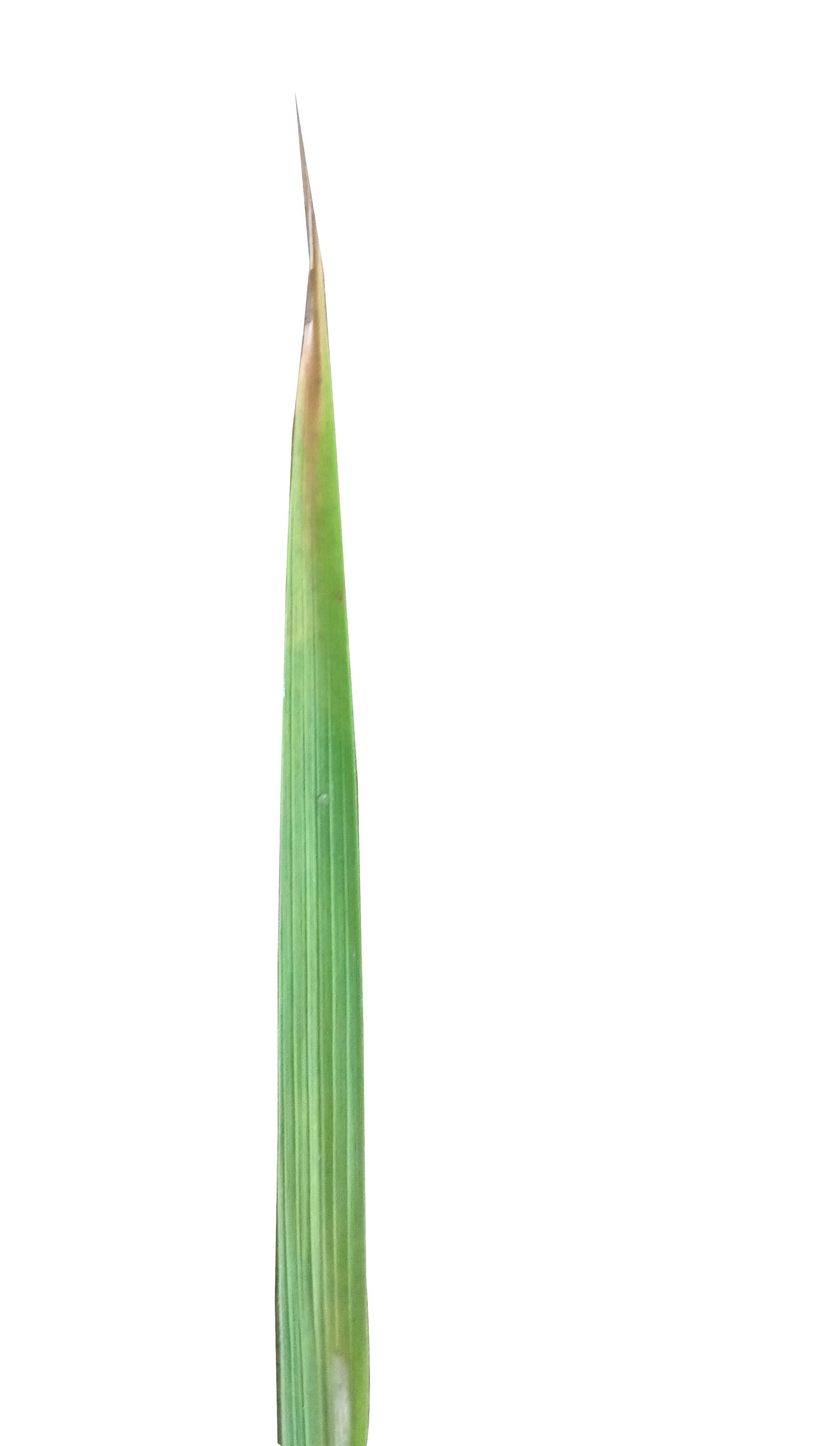Tungro: (290, 246, 353, 688)
